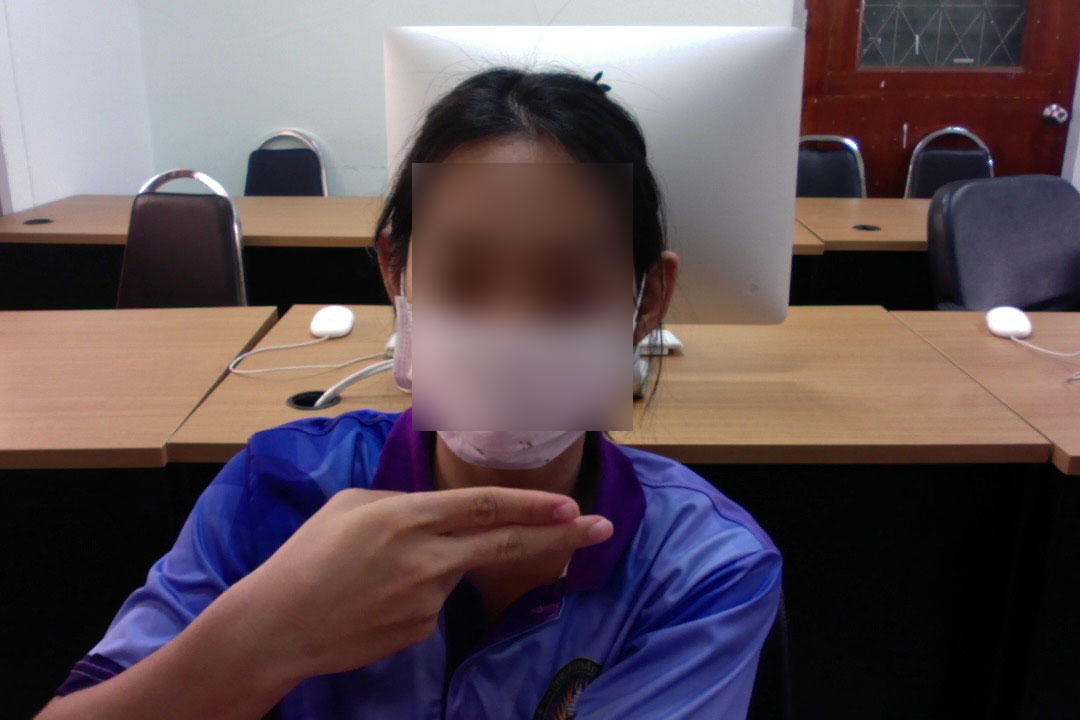hor: (267, 479, 618, 689)
